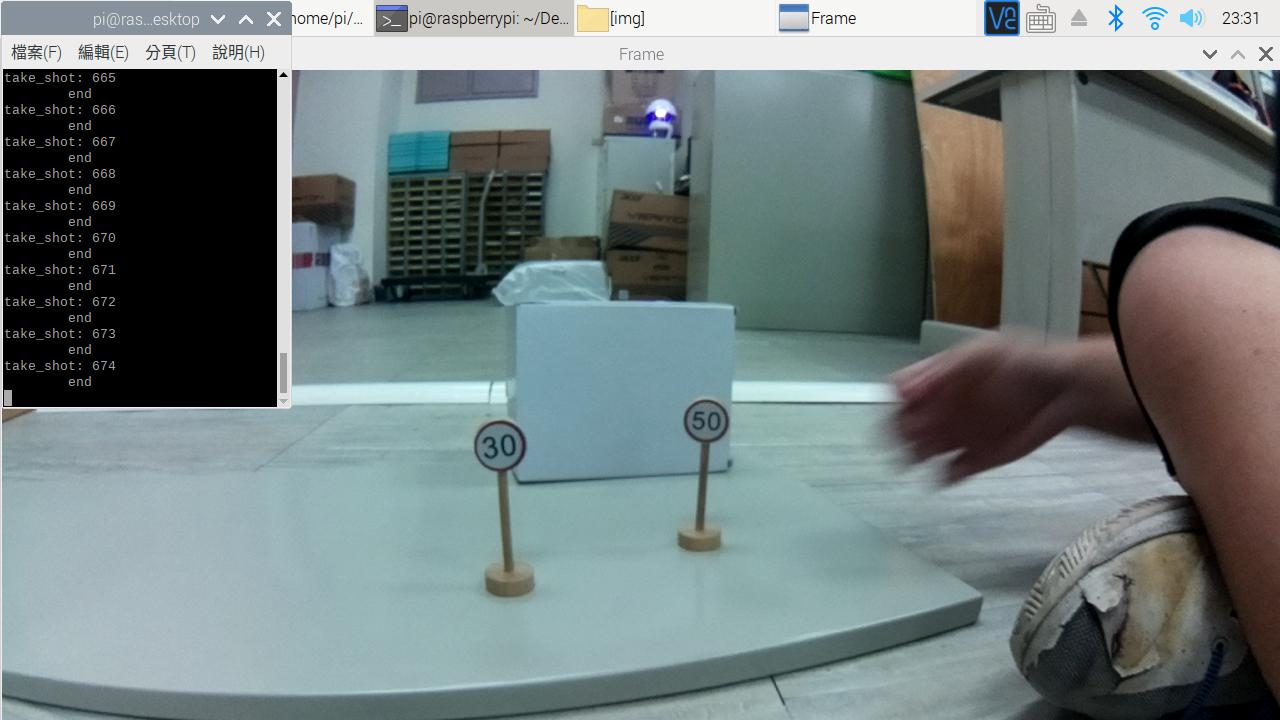Speed30: (457, 409, 543, 487)
Speed50: (682, 392, 735, 446)
